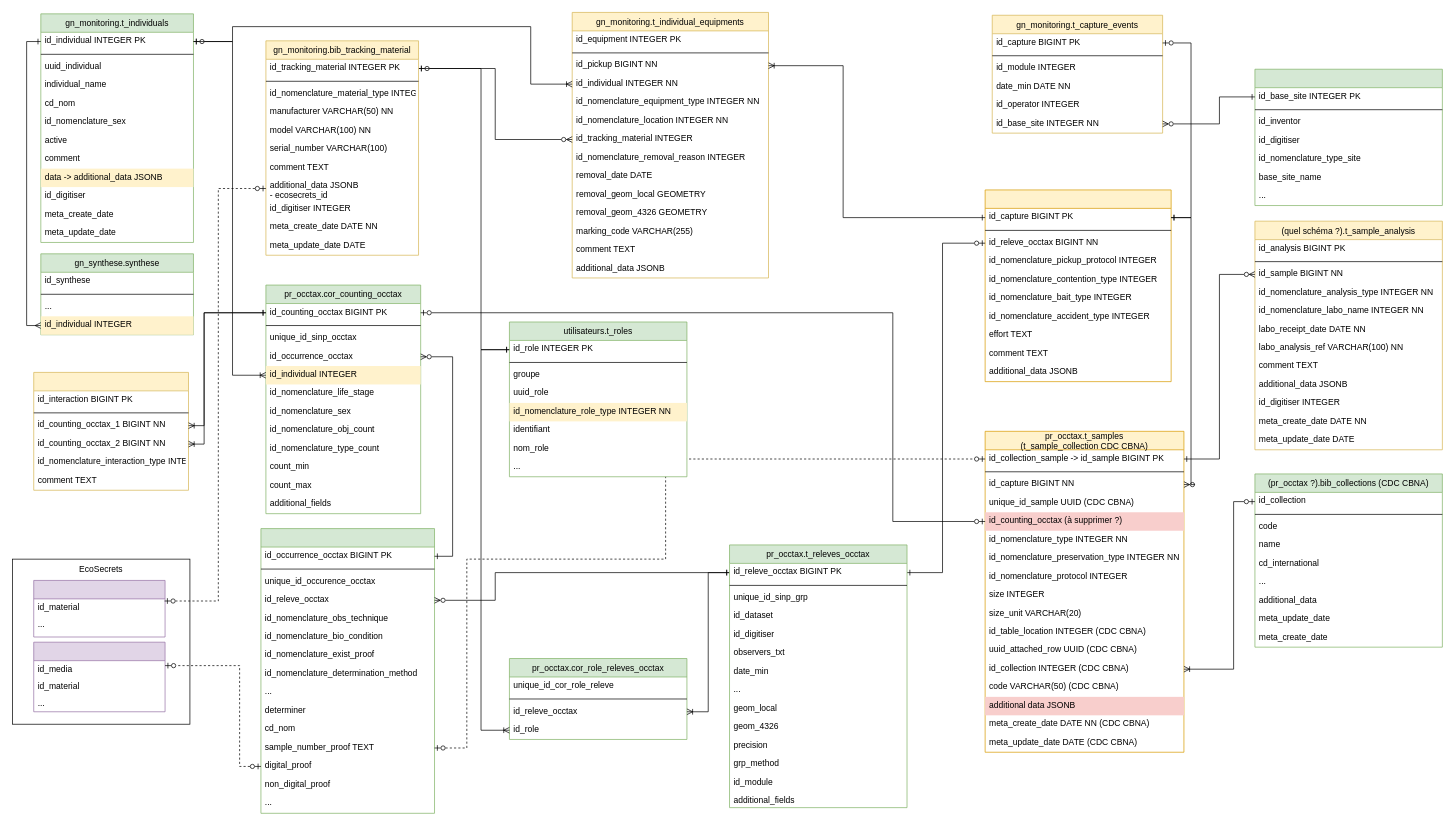
This 1455x827 diagram has some shape labels left out. Here are the shapes that lost their labels. From the top down, the box of each, then its label:
(1254, 69, 1442, 206): gn_monitoring.t_base_sites
(984, 189, 1171, 382): gn_monitoring.t_captures
(33, 372, 189, 490): pr_occtax.t_interaction_occtax
(33, 580, 165, 637): t_material
(33, 641, 165, 712): t_media
(260, 528, 435, 813): pr_occtax.t_occurrences_occtax
